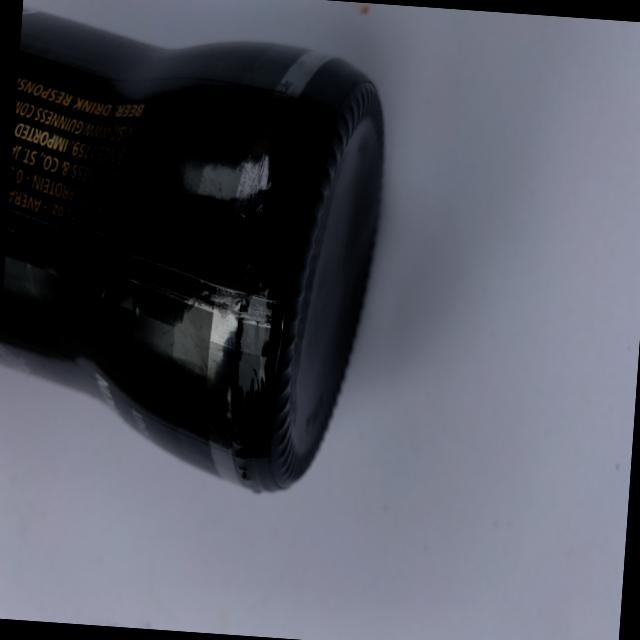Glass: (0, 0, 420, 515)
